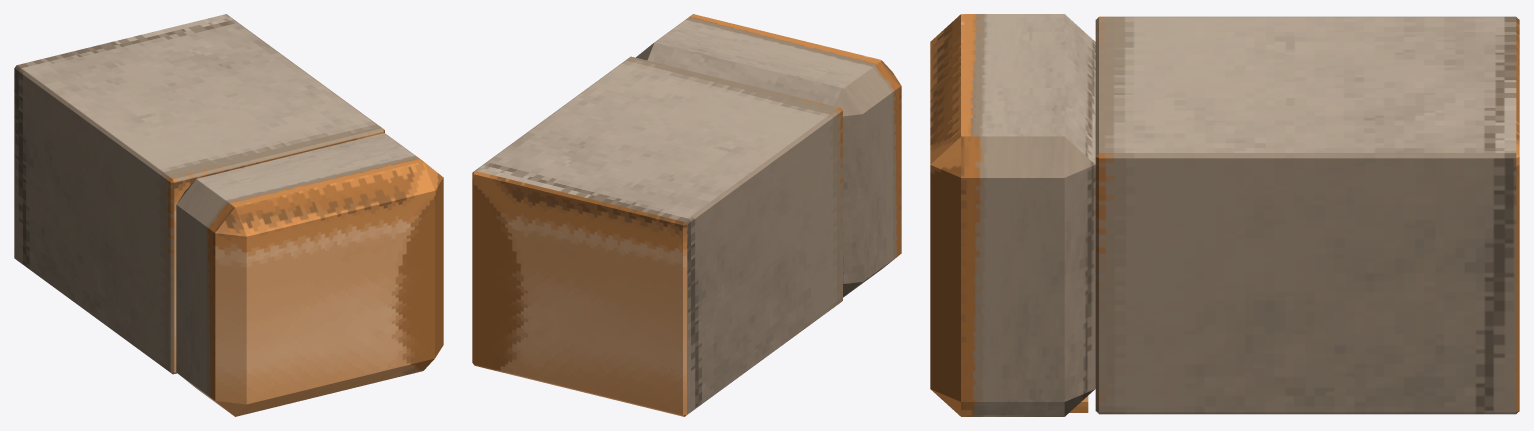
The model's file is pz_trashbin_fossoil.obj.
The picture shows the model from 3 angles, left to right: view 1: azimuth 30°, elevation 25°; view 2: azimuth 150°, elevation 25°; view 3: azimuth 270°, elevation 25°; orthographic projection. The views are drawn at different scales.
Parts seen in each view (by area): view 1: pz_trashbin_fossoil_|_native_square_bin_cabinet, pz_trashbin_fossoil_|_rounded_public_waste_hood; view 2: pz_trashbin_fossoil_|_native_square_bin_cabinet, pz_trashbin_fossoil_|_rounded_public_waste_hood; view 3: pz_trashbin_fossoil_|_native_square_bin_cabinet, pz_trashbin_fossoil_|_rounded_public_waste_hood.
Part boxes in pixels (x1=…): pz_trashbin_fossoil_|_native_square_bin_cabinet: x1=14, y1=14, x2=384, y2=374; pz_trashbin_fossoil_|_rounded_public_waste_hood: x1=176, y1=133, x2=443, y2=416; pz_trashbin_fossoil_|_native_square_bin_cabinet: x1=472, y1=56, x2=842, y2=416; pz_trashbin_fossoil_|_rounded_public_waste_hood: x1=636, y1=14, x2=901, y2=297; pz_trashbin_fossoil_|_native_square_bin_cabinet: x1=1095, y1=16, x2=1519, y2=414; pz_trashbin_fossoil_|_rounded_public_waste_hood: x1=930, y1=14, x2=1095, y2=416.
Bounding box in the file's own units: 0.49 × 0.434 × 0.82.
Materials: 3 (3 with a texture image).
